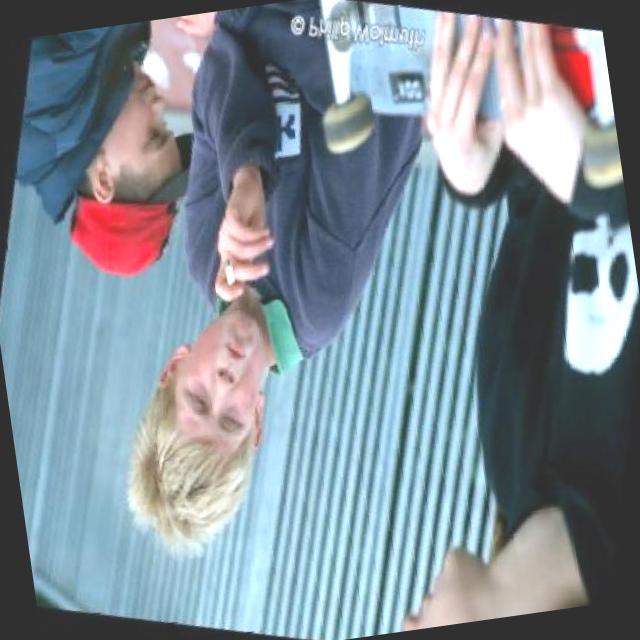cigarette: (216, 254, 242, 294)
